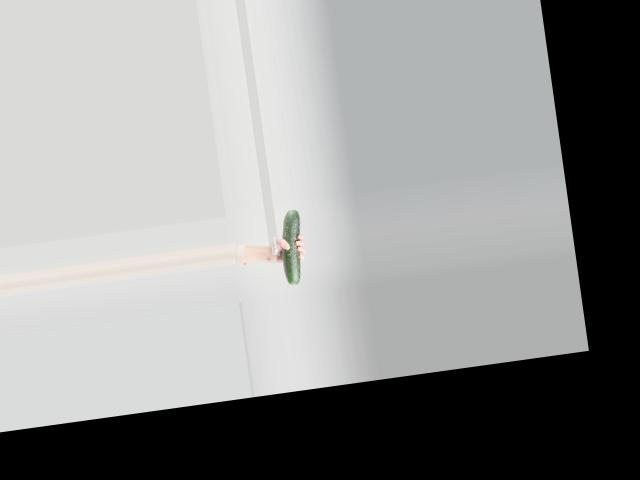cucumber: (276, 208, 308, 283)
